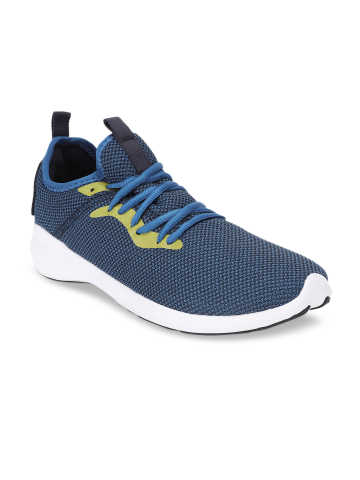shoe: (26, 95, 341, 338)
